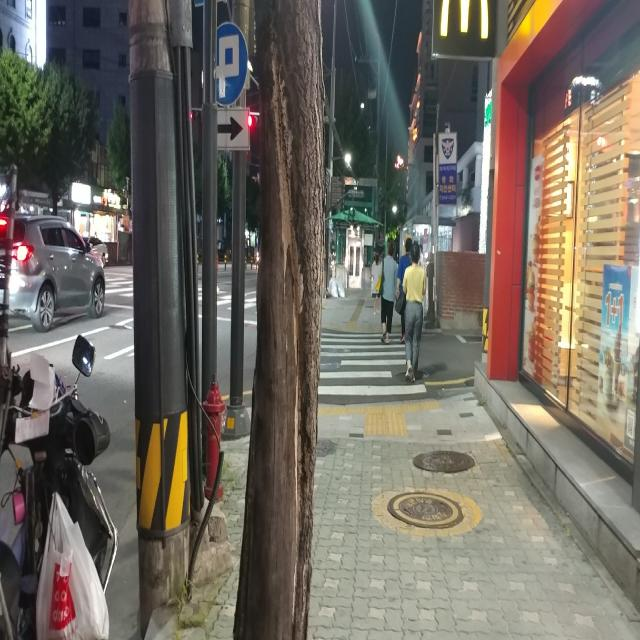횡단보도: (317, 332, 428, 397)
